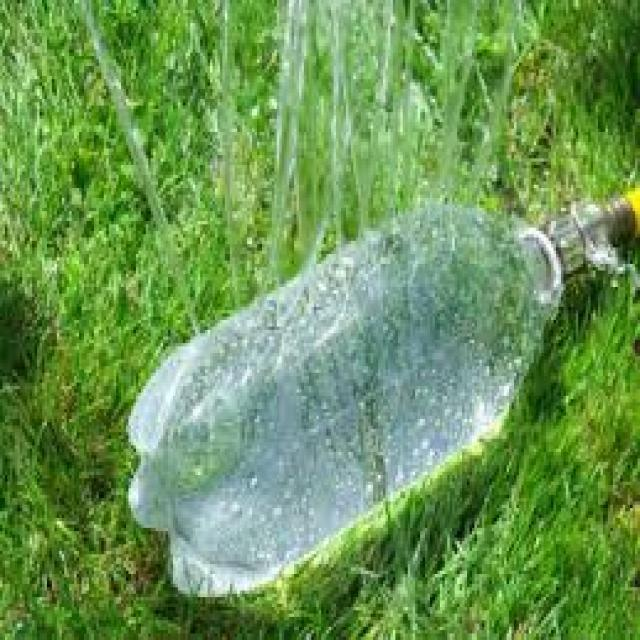Plastic: (128, 203, 544, 602)
